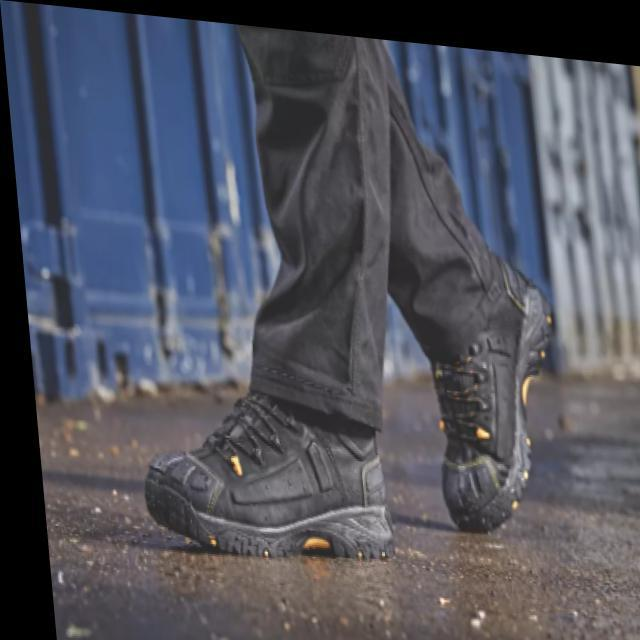shoes: (112, 200, 578, 602)
